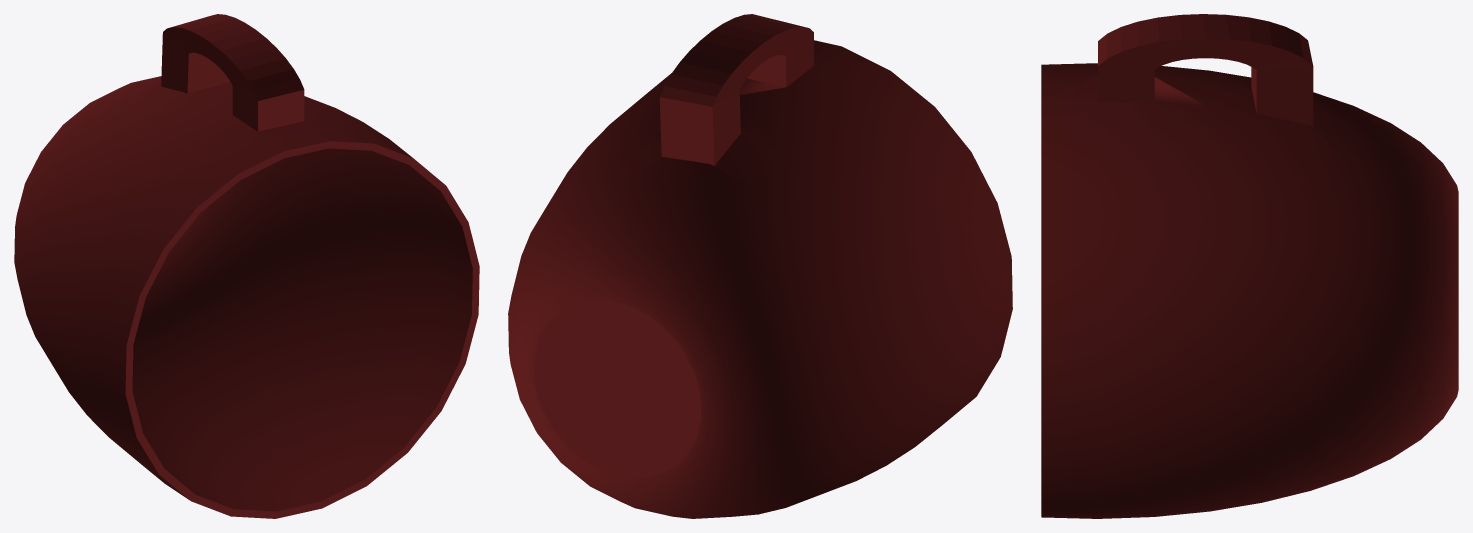
Rendered from model_align.obj.
The picture shows the model from 3 angles, left to right: view 1: azimuth 30°, elevation 25°; view 2: azimuth 150°, elevation 25°; view 3: azimuth 270°, elevation 25°; orthographic projection. The views are drawn at different scales.
Parts seen in each view (by area): view 1: mesh1_mesh1-geometry; view 2: mesh1_mesh1-geometry; view 3: mesh1_mesh1-geometry.
Part boxes in pixels (x1,y1,x2,y2): mesh1_mesh1-geometry: [14, 14, 479, 518]; mesh1_mesh1-geometry: [508, 14, 1012, 518]; mesh1_mesh1-geometry: [1041, 14, 1458, 518].
Size of the model in its own units: 0.0961 by 0.1093 by 0.0875.
